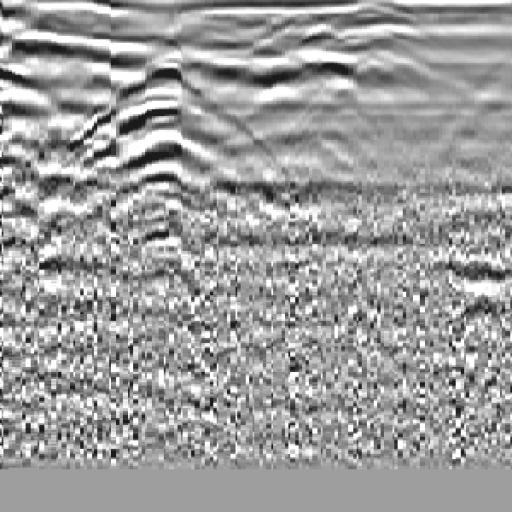metalic: (47, 41, 307, 333)
